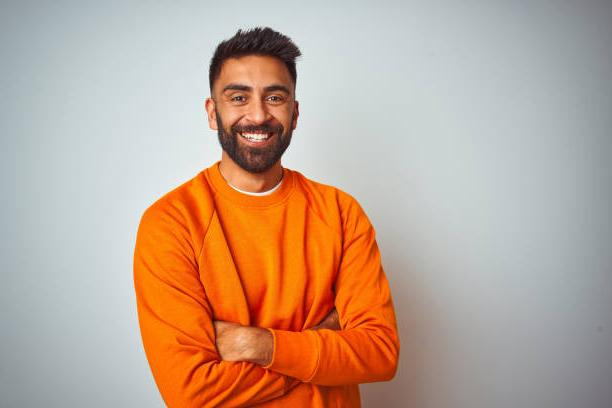sweater: (132, 156, 403, 408)
